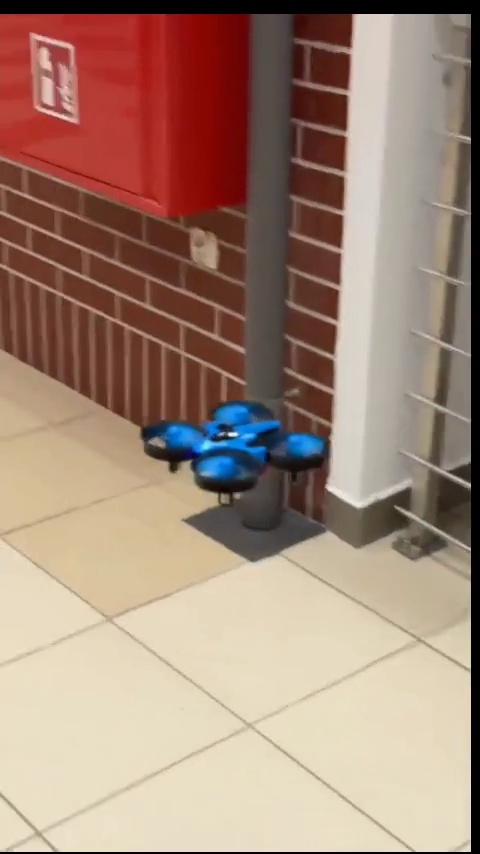drone: (133, 395, 329, 509)
